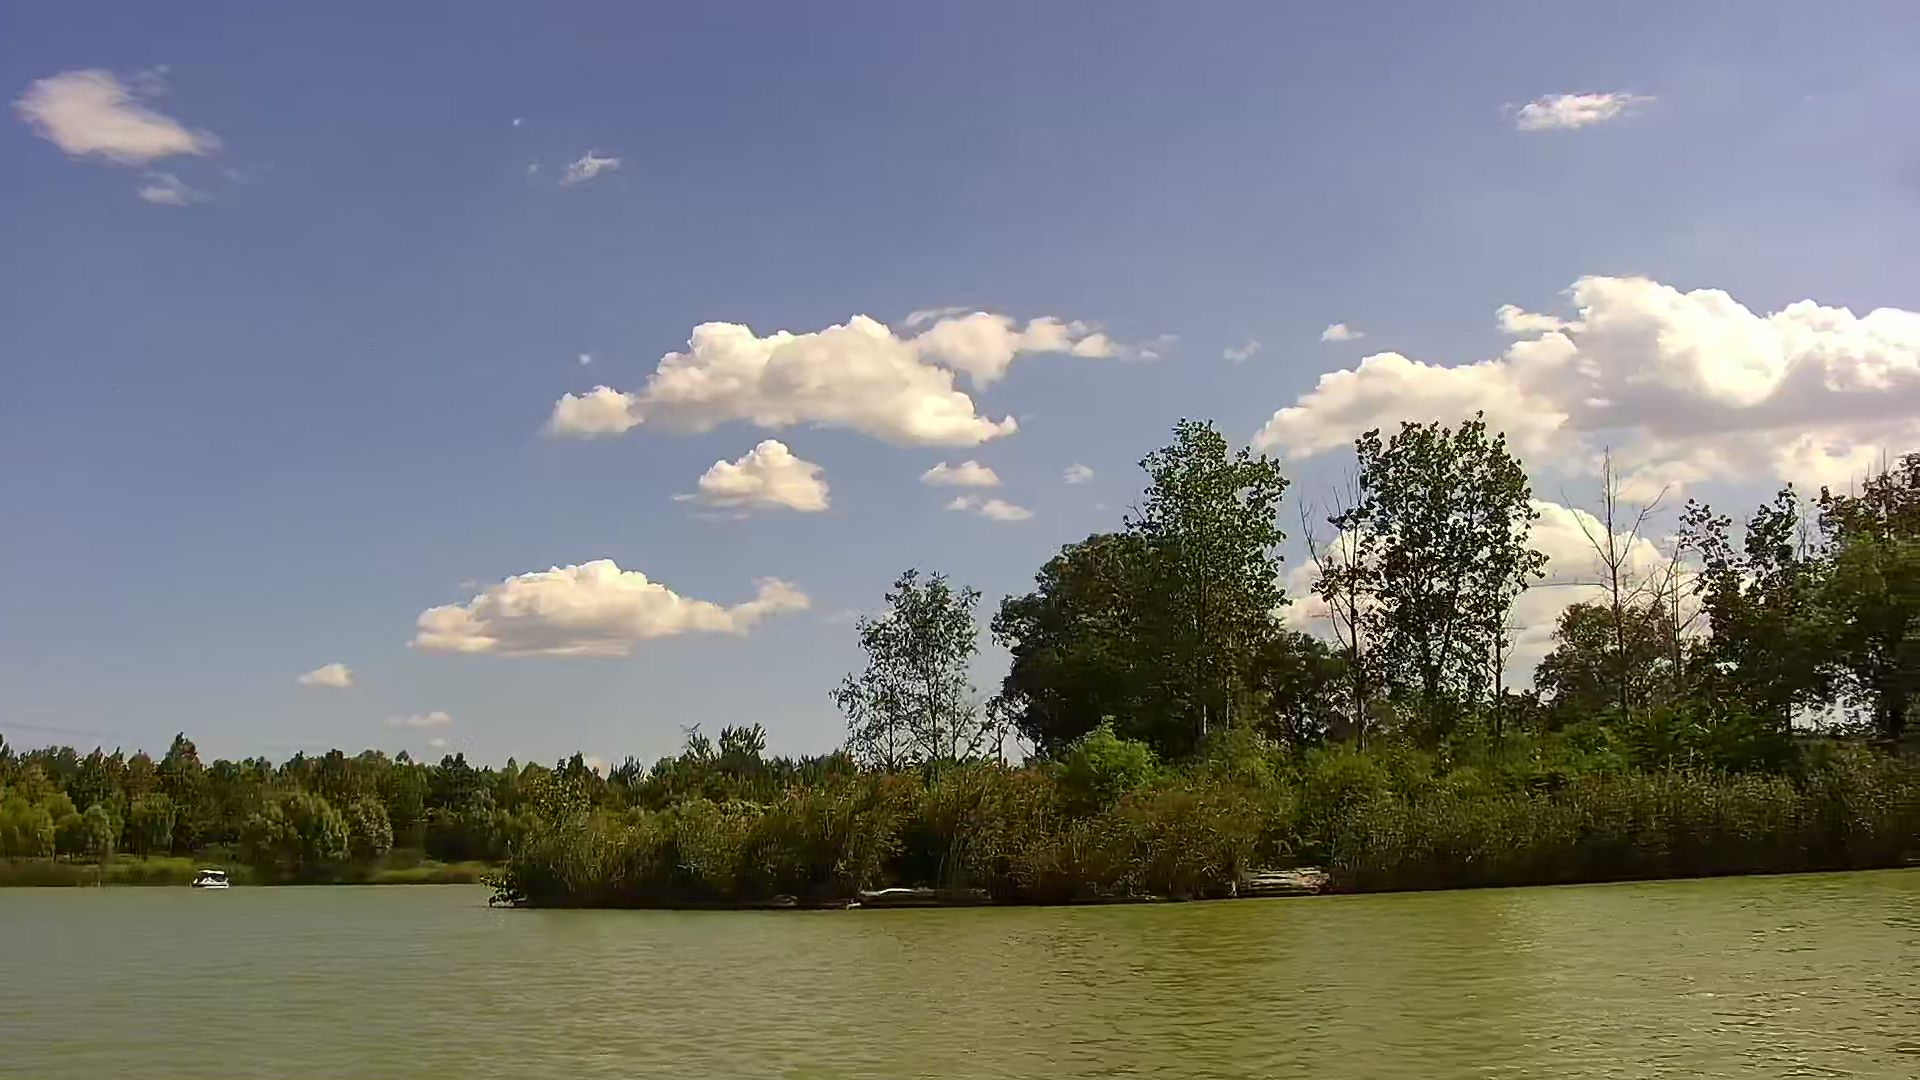boat: (183, 868, 233, 891)
